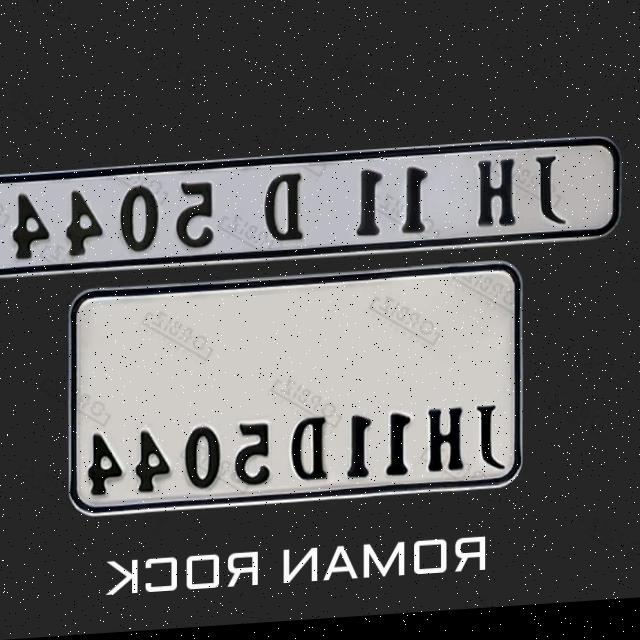plate: (64, 265, 529, 524), (0, 138, 625, 282)
